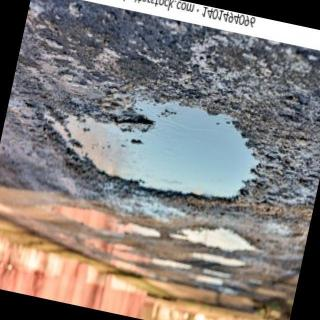pothole: (48, 100, 259, 198), (48, 201, 160, 239), (168, 225, 262, 255)
